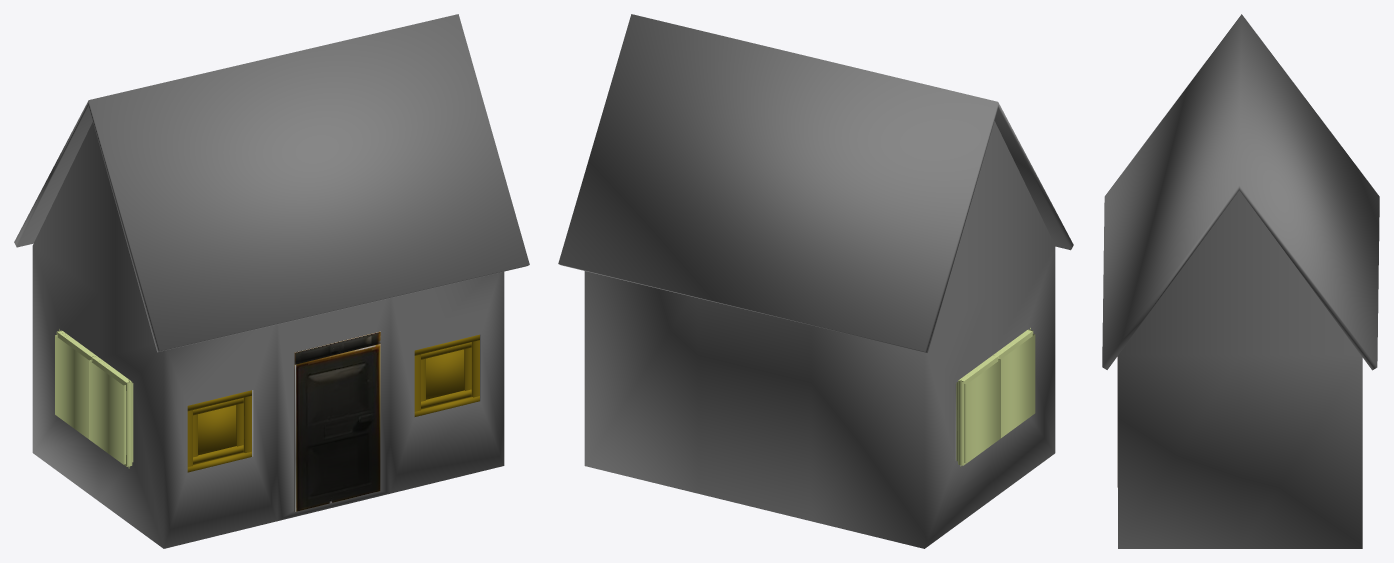
File: Complete.obj
3 views of the same model, side by side, from view 1: azimuth 30°, elevation 25°; view 2: azimuth 150°, elevation 25°; view 3: azimuth 270°, elevation 25° (orthographic). The views are drawn at different scales.
Parts seen in each view (by area): view 1: Prism001, Modelo, SlidingDoor001, AwningWindow003, AwningWindow001, AwningWindow002; view 2: Prism001, Modelo, AwningWindow003; view 3: Modelo, Prism001.
Part boxes in pixels (x1,y1,x2,y2): Prism001: [14, 14, 529, 352]; Modelo: [32, 122, 504, 548]; SlidingDoor001: [294, 331, 380, 511]; AwningWindow003: [55, 329, 133, 468]; AwningWindow001: [414, 334, 479, 416]; AwningWindow002: [187, 390, 251, 472]; Prism001: [558, 14, 1073, 352]; Modelo: [584, 121, 1055, 548]; AwningWindow003: [956, 328, 1035, 467]; Modelo: [1118, 190, 1362, 548]; Prism001: [1102, 14, 1379, 370].
Size of the model in its own units: 65.38 by 67.81 by 45.39.
